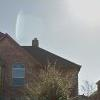Chimney: (25, 33, 43, 57)
